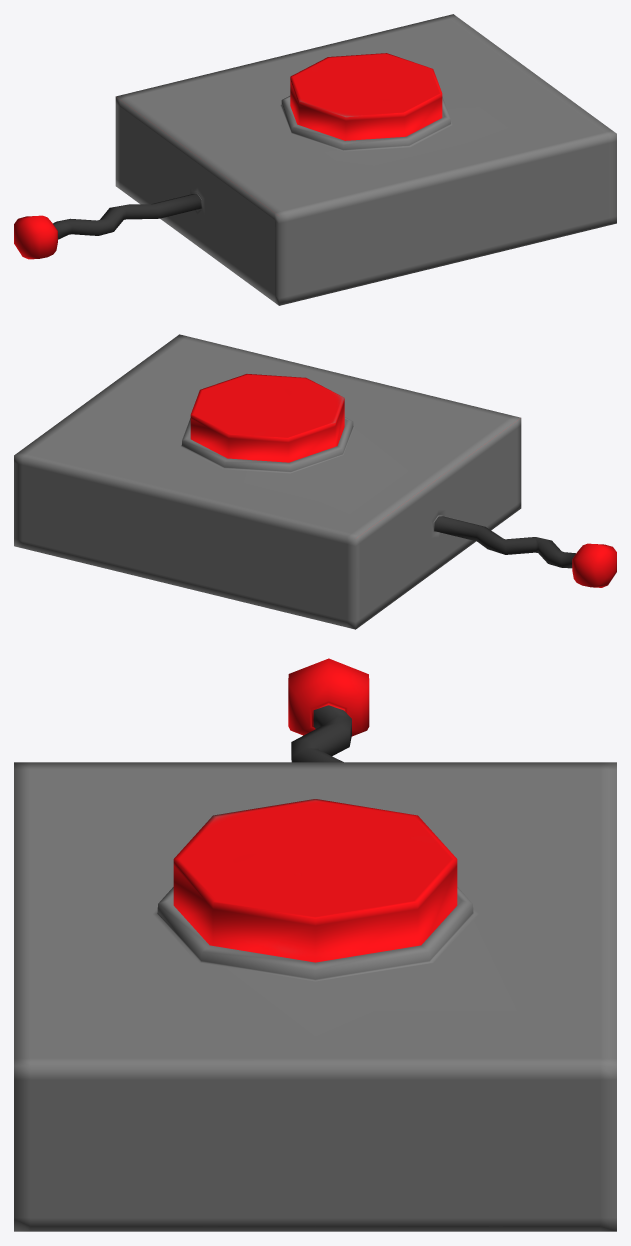
File: remote_control.glb
The picture shows the model from 3 angles, top to bottom: view 1: azimuth 30°, elevation 25°; view 2: azimuth 150°, elevation 25°; view 3: azimuth 270°, elevation 25°; orthographic projection. The views are drawn at different scales.
Visible parts, largest first — view 1: Cube; view 2: Cube; view 3: Cube.
Boxes of the visible parts, box(x1,y1,x2,y2) form: Cube: box(14, 14, 616, 305); Cube: box(14, 334, 616, 629); Cube: box(14, 658, 616, 1231).
Size of the model in its own units: 0.2746 by 0.0612 by 0.1516.
Materials: 1 (1 with a texture image).
